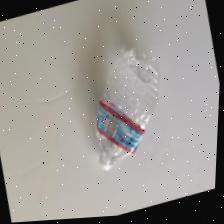plastic: (95, 50, 159, 172)
